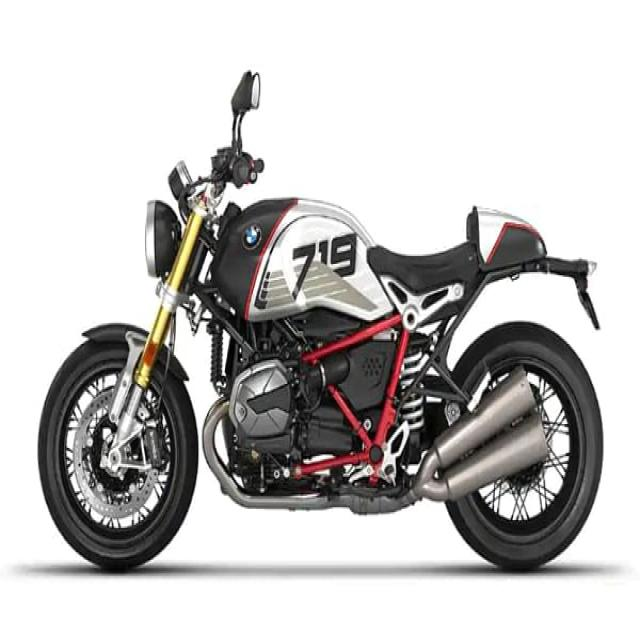bike: (36, 69, 603, 572)
